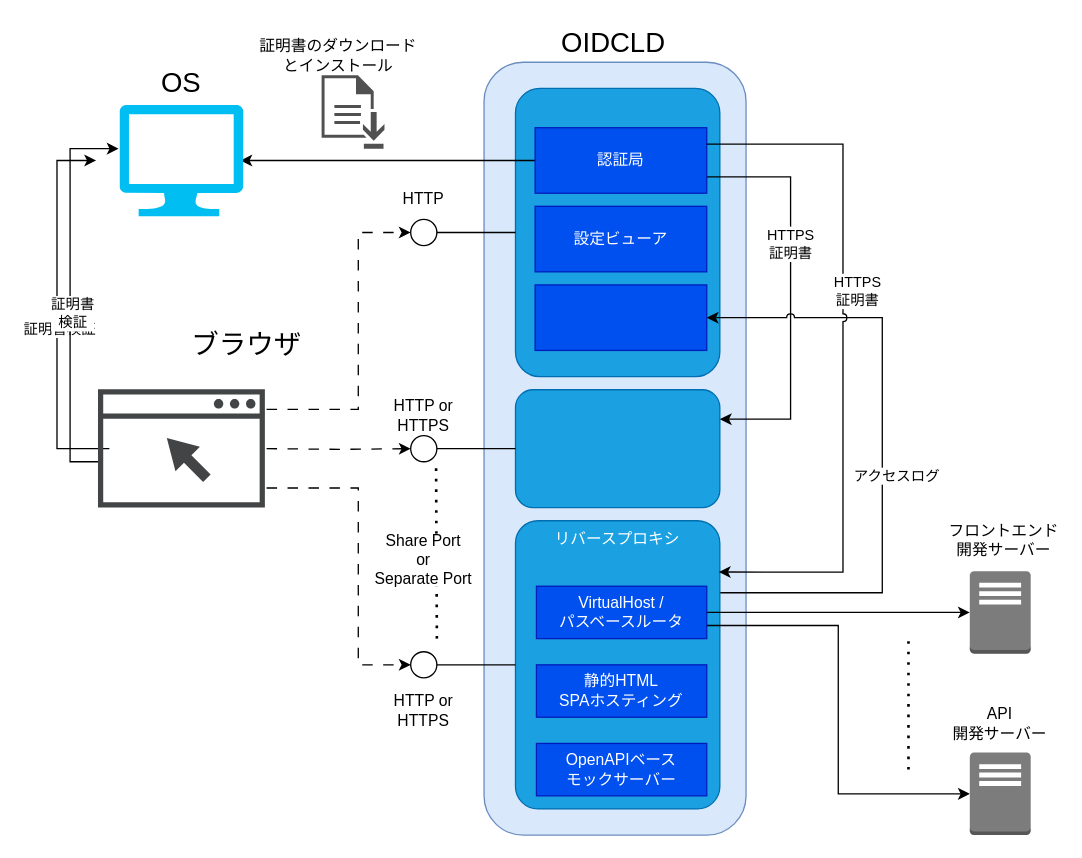
Some shapes in this 1082 by 858 pixel diagram are drawn without their labels. The box of each missing label's shape, as (x1, y1, x2, y2) in pixels:
OpenID Connect: (514, 388, 720, 508)
コンソール: (514, 87, 720, 377)
リバースプロキシ ログビュー・リプレイ: (534, 284, 707, 350)
